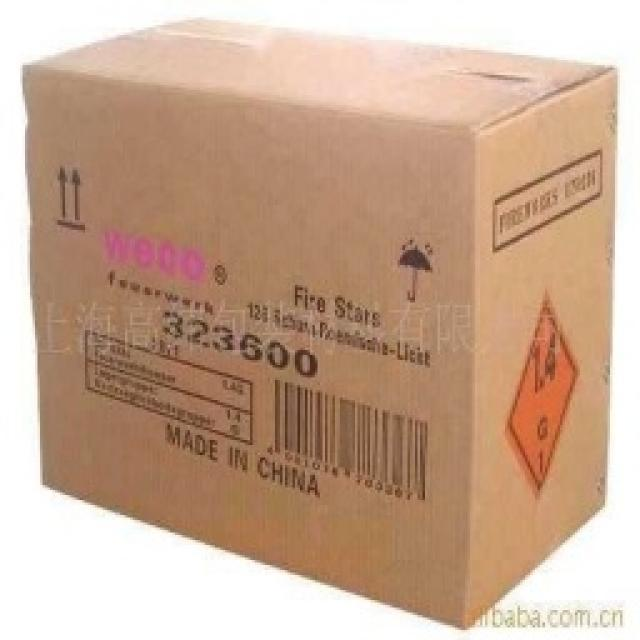box: (17, 17, 620, 631)
